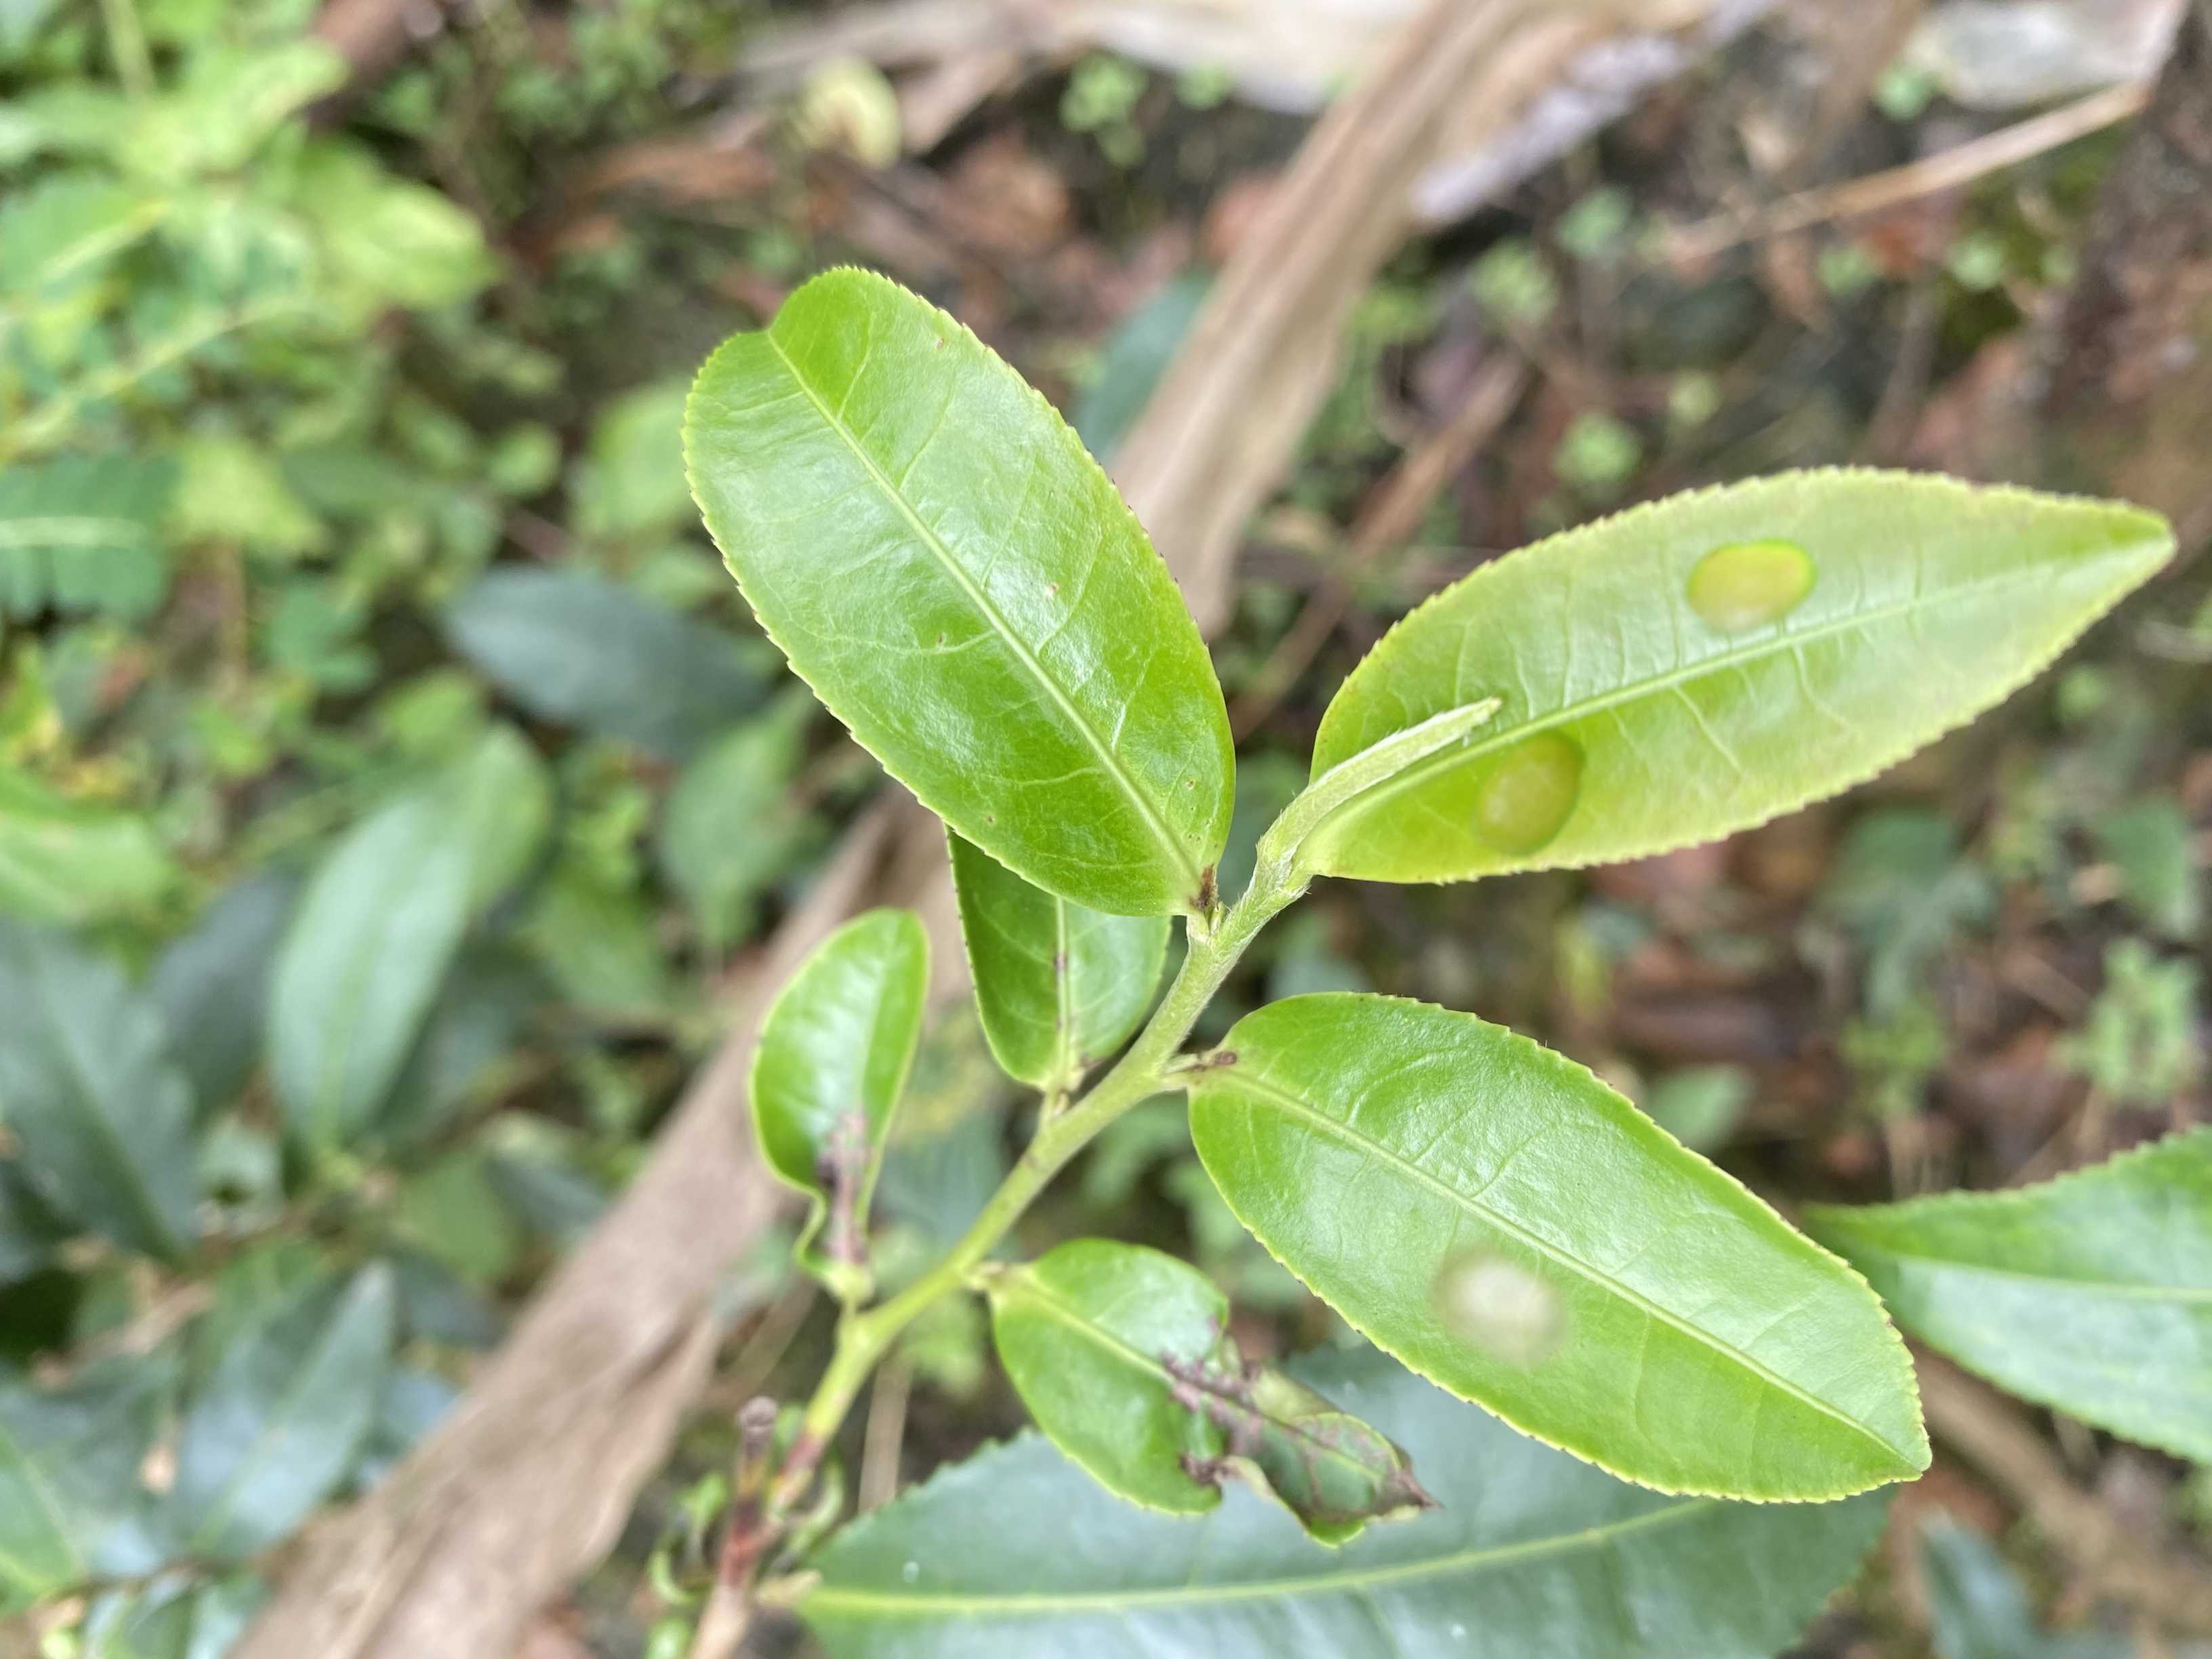chabing_high: (1305, 469, 2175, 889)
chabing_low: (1191, 988, 1933, 1506)
healthy: (672, 261, 1240, 920)
tanju_high: (989, 1236, 1440, 1549), (744, 908, 930, 1302)
tanju_low: (944, 821, 1172, 1089)
